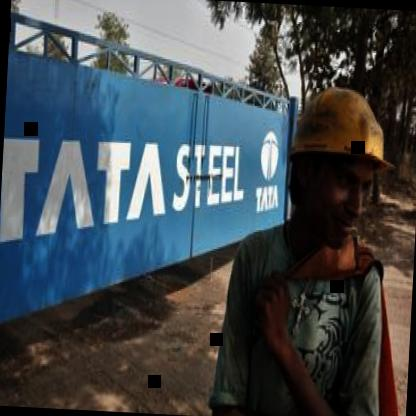helmet: (271, 64, 401, 252)
